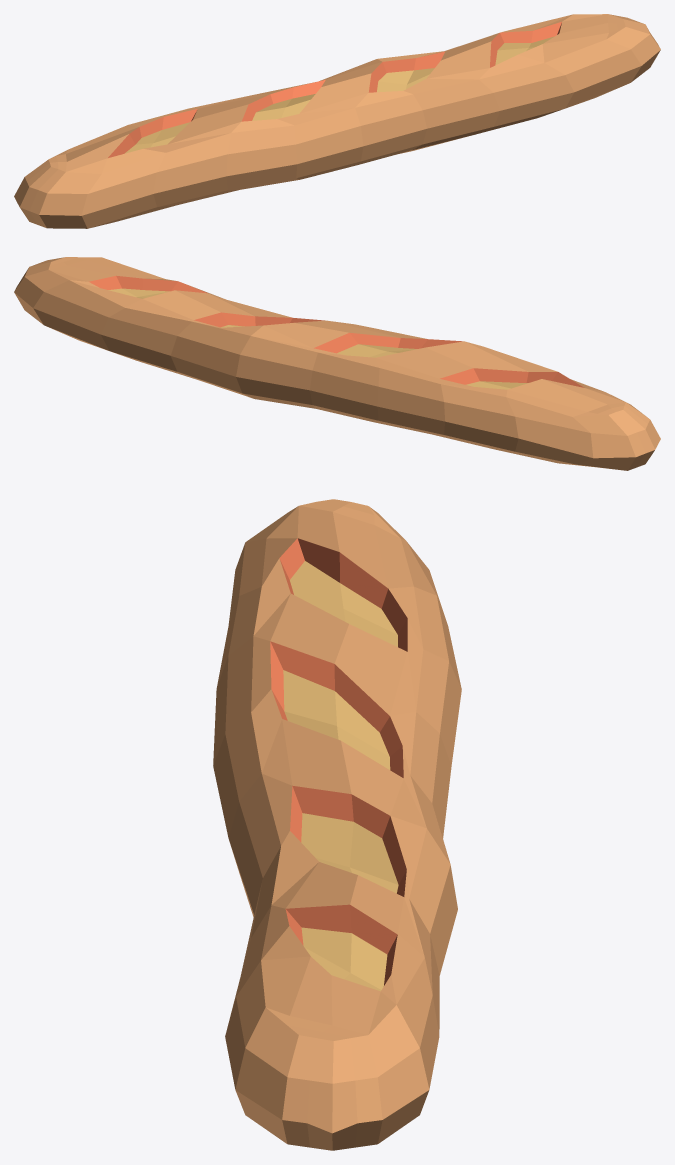
File: baguette_1.fbx
3 views of the same model, one above another, from view 1: azimuth 30°, elevation 25°; view 2: azimuth 150°, elevation 25°; view 3: azimuth 270°, elevation 25° (orthographic). The views are drawn at different scales.
Parts seen in each view (by area): view 1: baguette 1; view 2: baguette 1; view 3: baguette 1.
Part boxes in pixels (x1,y1,x2,y2): baguette 1: [14, 14, 660, 228]; baguette 1: [14, 257, 660, 470]; baguette 1: [213, 499, 461, 1150].
Bounding box in the file's own units: 1160 × 130 × 197.
